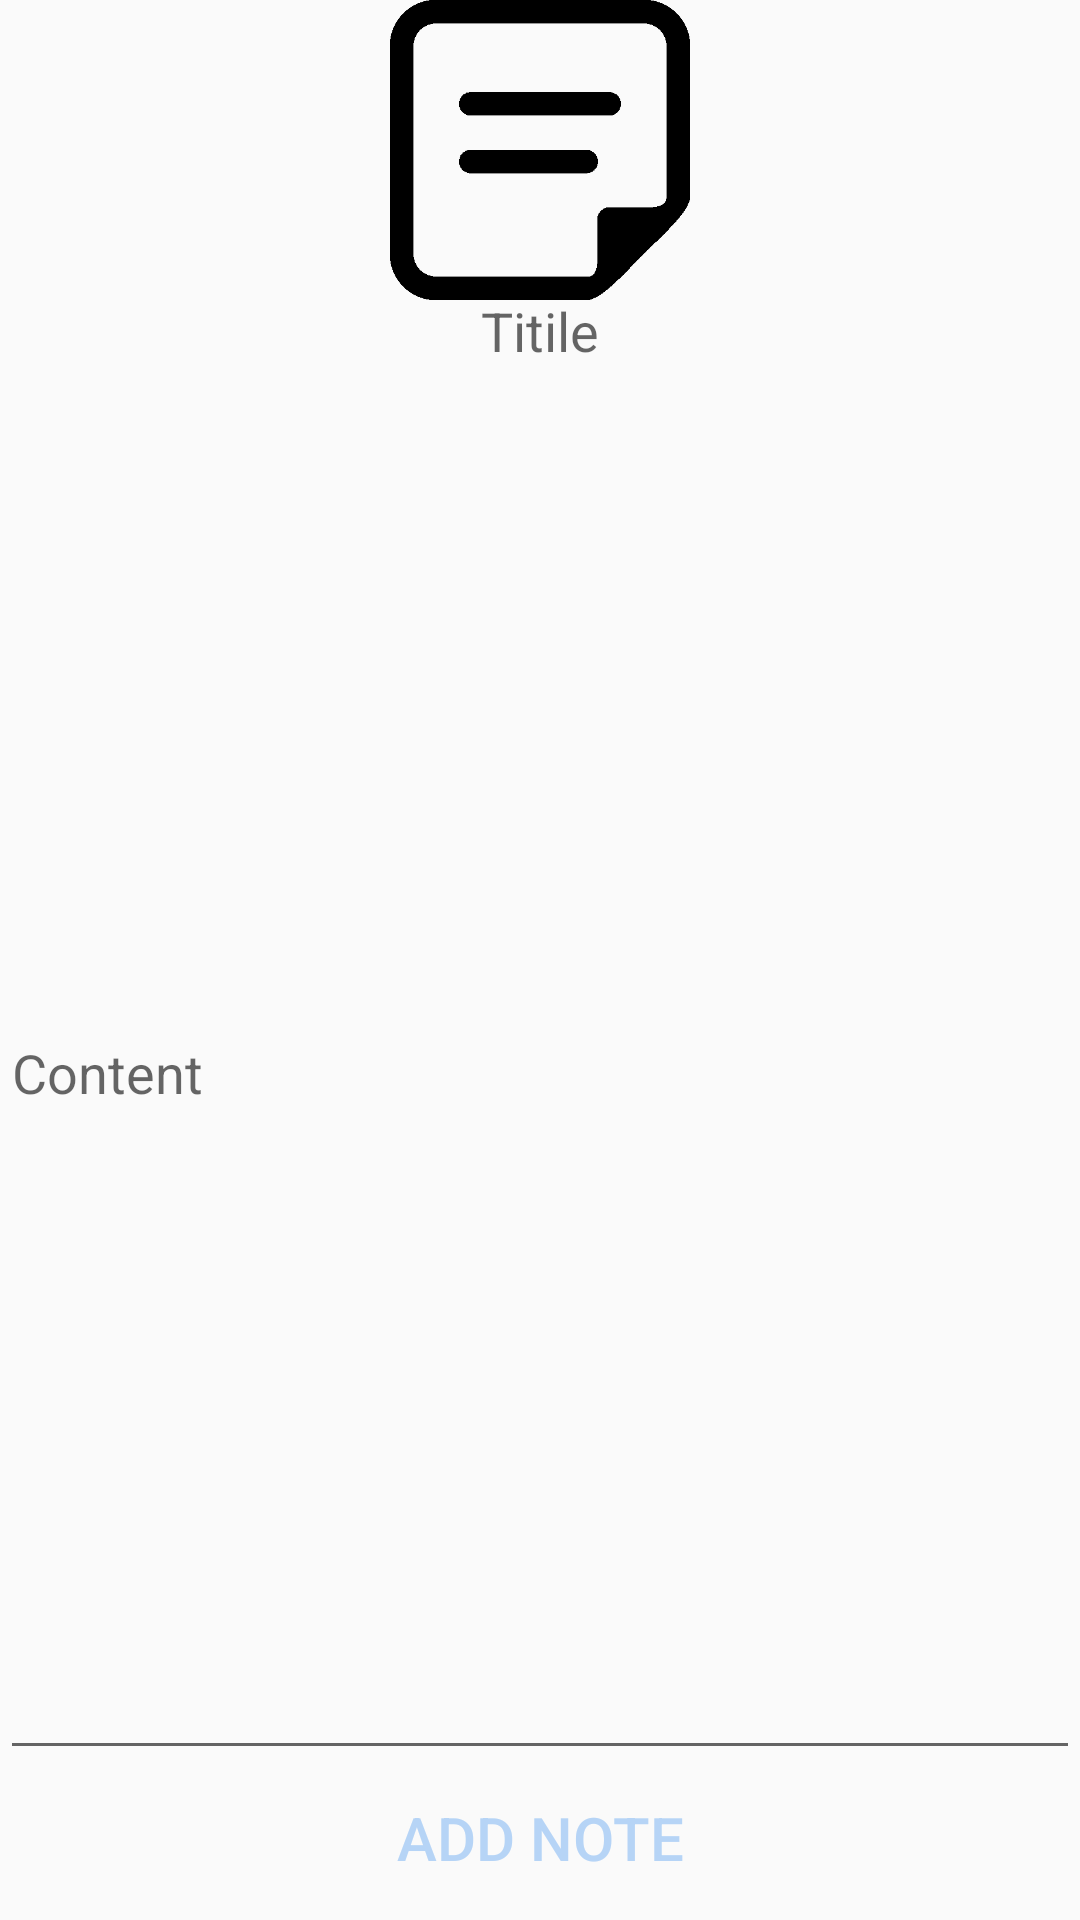

Where to tap for icons on this 1080 x 1920 app screen, as (x=x, y=y):
note: (x=540, y=150)
